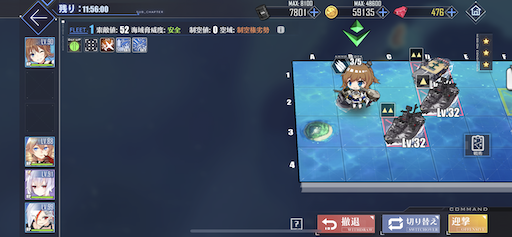lv1: (414, 76, 460, 115)
lv2: (380, 103, 427, 146), (408, 48, 452, 78)
